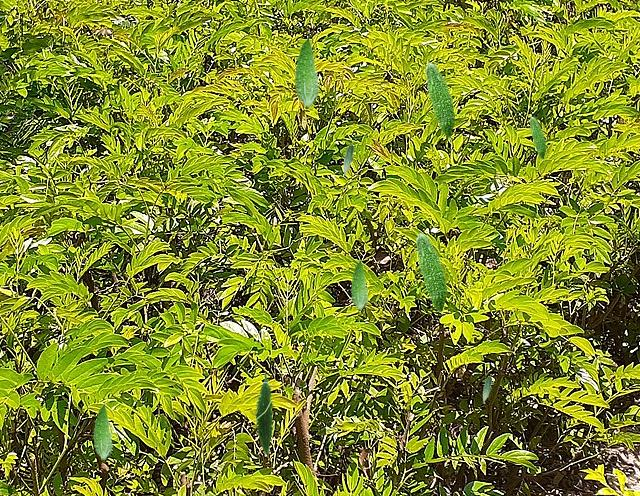ampalaya: (415, 232, 448, 315), (425, 62, 456, 140), (293, 35, 320, 109), (253, 372, 276, 457), (92, 402, 113, 461), (349, 259, 368, 311), (529, 116, 547, 161), (343, 141, 354, 176), (482, 373, 492, 404)
